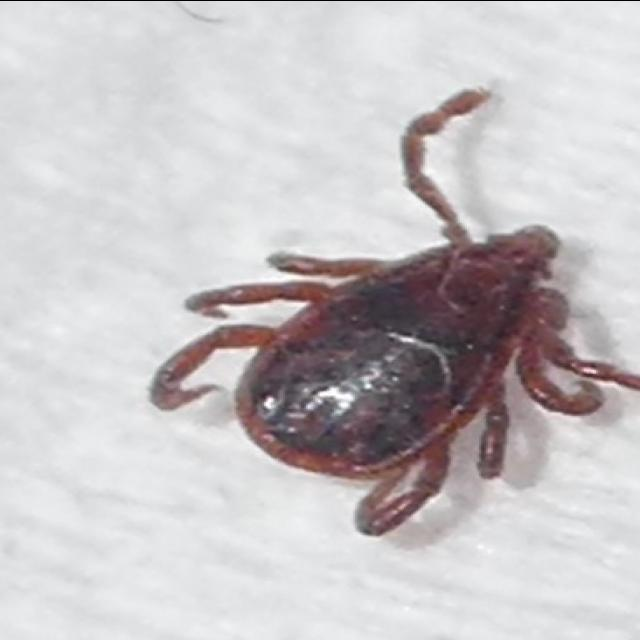Rhipicephalus Sanguineus-M: (150, 87, 640, 538)
